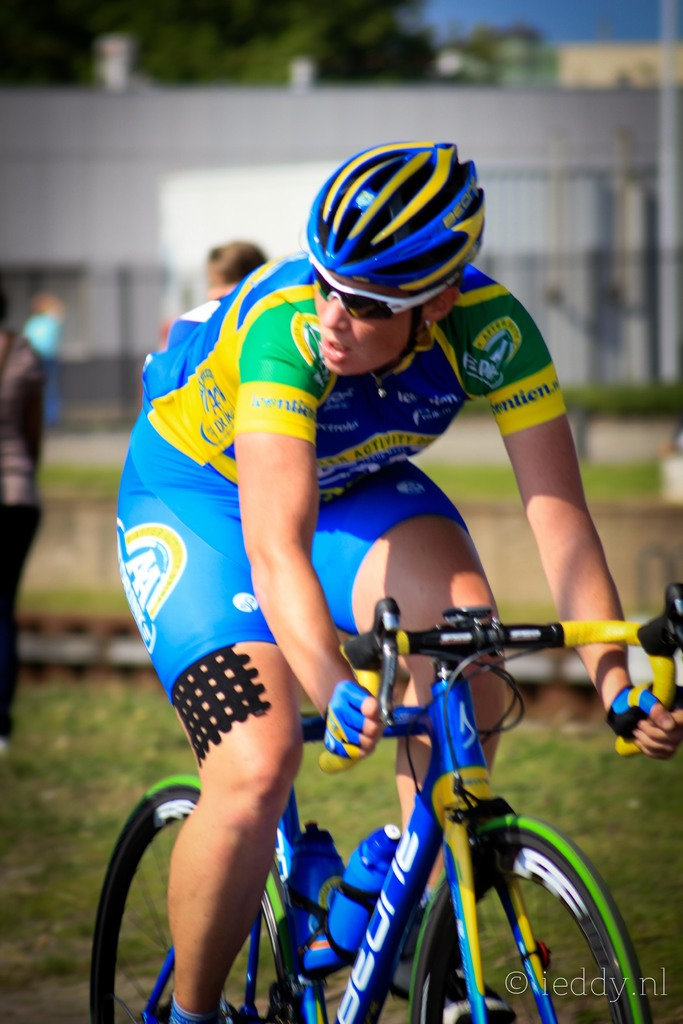Bike_toward: (112, 595, 664, 1024)
